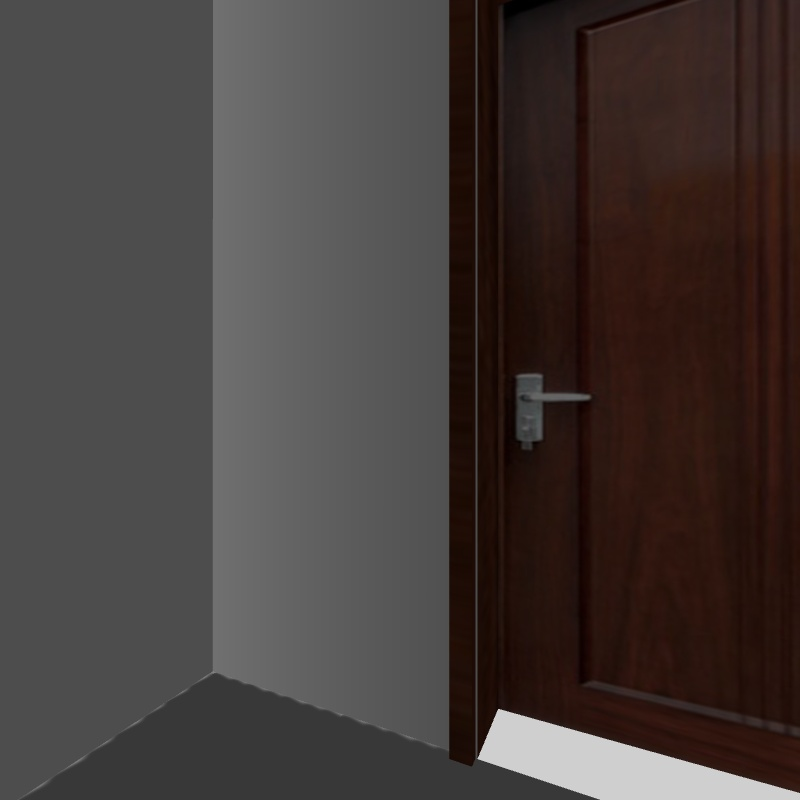handle: (496, 364, 589, 465)
